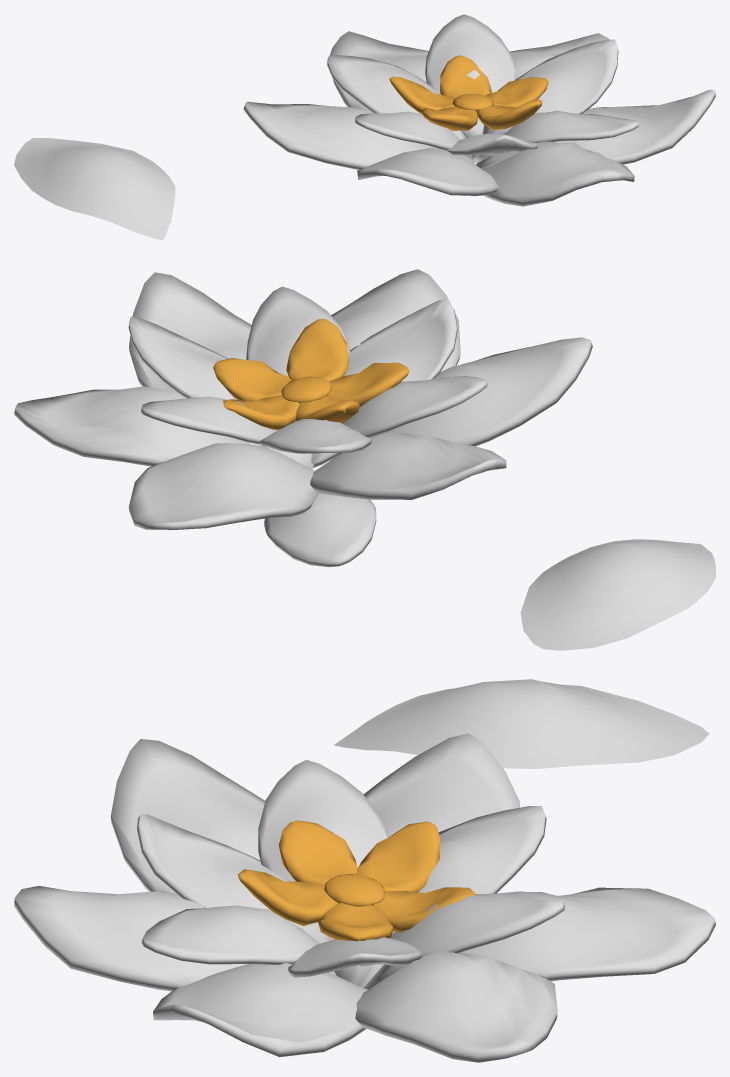
File: Flower.fbx
The picture shows the model from 3 angles, top to bottom: view 1: azimuth 30°, elevation 25°; view 2: azimuth 150°, elevation 25°; view 3: azimuth 270°, elevation 25°; orthographic projection. The views are drawn at different scales.
Visible parts, largest first — view 1: Plane.001, Plane.009, Flower.003, Plane.007, Plane.004, Plane.005, Plane.012, Plane.003, Plane.010, Plane.011, Plane.006, Plane.013 (+2 smaller); view 2: Plane.001, Plane.006, Flower.003, Plane.003, Plane.008, Plane.009, Plane.004, Plane.014, Plane.002, Plane.007, Plane.005, Plane.013 (+3 smaller); view 3: Plane.001, Flower.003, Plane.008, Plane.006, Plane.004, Plane.007, Plane.003, Plane.009, Plane.011, Plane.013, Plane.002, Plane.010 (+2 smaller).
Boxes of the visible parts, x1,y1,x2,y2 form: Plane.001: (14, 138, 175, 240); Plane.009: (243, 101, 437, 169); Flower.003: (389, 55, 548, 130); Plane.007: (482, 141, 634, 206); Plane.004: (475, 89, 715, 169); Plane.005: (482, 39, 618, 134); Plane.012: (425, 14, 516, 137); Plane.003: (357, 148, 498, 195); Plane.010: (327, 55, 466, 139); Plane.011: (504, 110, 638, 142); Plane.006: (329, 31, 475, 163); Plane.013: (355, 111, 474, 159); Plane.001: (520, 539, 715, 650); Plane.006: (129, 443, 318, 529); Flower.003: (213, 318, 409, 429); Plane.003: (369, 337, 592, 446); Plane.008: (14, 386, 249, 466); Plane.009: (310, 431, 506, 499); Plane.004: (129, 272, 313, 469); Plane.014: (264, 493, 376, 567); Plane.002: (344, 298, 457, 381); Plane.007: (311, 269, 460, 468); Plane.005: (128, 316, 296, 421); Plane.013: (342, 376, 487, 437); Plane.001: (334, 679, 709, 768); Flower.003: (238, 820, 475, 941); Plane.008: (355, 950, 557, 1062); Plane.006: (364, 887, 715, 989); Plane.004: (153, 963, 367, 1057); Plane.007: (14, 886, 247, 991); Plane.003: (111, 739, 336, 975); Plane.009: (334, 733, 519, 987); Plane.011: (141, 905, 319, 964); Plane.013: (258, 759, 388, 940); Plane.002: (137, 814, 330, 943); Plane.010: (392, 806, 546, 933).
Size of the model in its own units: 802 by 151 by 595.
